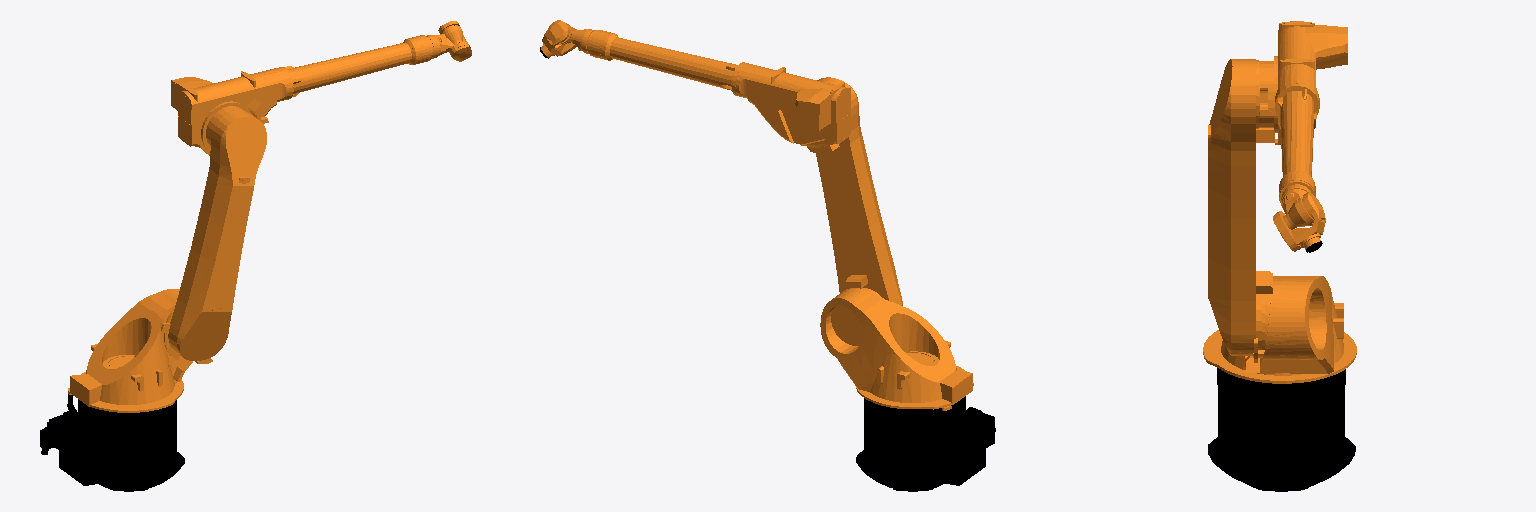
robot.urdf — kuka:
<?xml version="1.0" encoding="utf-8"?>
<robot
  name="kuka">
  <link
    name="base_link">
    <inertial>
      <origin
        xyz="0.40217 0.45379 0.76837"
        rpy="0 0 0" />
      <mass
        value="130.85" />
      <inertia
        ixx="4.8905"
        ixy="0.037499"
        ixz="-0.20711"
        iyy="6.1291"
        iyz="-0.00066682"
        izz="6.0394" />
    </inertial>
    <visual>
      <origin
        xyz="-0.5 -0.46 -0.55"
        rpy="0 0 0" />
      <geometry>
        <mesh
          filename="package://kuka/meshes/base_link.STL" />
      </geometry>
      <material
        name="">
        <color
          rgba="0 0 0 1" />
      </material>
    </visual>
    <collision>
      <origin
        xyz="-0.5 -0.46 -0.55"
        rpy="0 0 0" />
      <geometry>
        <mesh
          filename="package://kuka/meshes/base_link.STL" />
      </geometry>
    </collision>
  </link>
  <link
    name="shoulder">
    <inertial>
      <origin
        xyz="0.1341 0.0040556 0.19496"
        rpy="0 0 0" />
      <mass
        value="69.695" />
      <inertia
        ixx="2.0818"
        ixy="0.030673"
        ixz="-1.0414"
        iyy="3.7104"
        iyz="0.029859"
        izz="3.5065" />
    </inertial>
    <visual>
      <origin
        xyz="0 0 0"
        rpy="0 0 0" />
      <geometry>
        <mesh
          filename="package://kuka/meshes/shoulder.STL" />
      </geometry>
      <material
        name="">
        <color
          rgba="1 0.6 0.2 1" />
      </material>
    </visual>
    <collision>
      <origin
        xyz="0 0 0"
        rpy="0 0 0" />
      <geometry>
        <mesh
          filename="package://kuka/meshes/shoulder.STL" />
      </geometry>
    </collision>
  </link>
  <joint
    name="shoulder_joint"
    type="revolute">
    <origin
      xyz="-0.05415 -0.002 0.45303"
      rpy="0 0 0" />
    <parent
      link="base_link" />
    <child
      link="shoulder" />
    <limit 
      lower="-3.22" upper="3.22" effort="0.1" velocity="0.1"/>
    <axis
      xyz="0 0 1" />
  </joint>
  <link
    name="elbow">
    <inertial>
      <origin
        xyz="-2.6313E-05 -0.21861 0.56743"
        rpy="0 0 0" />
      <mass
        value="67.938" />
      <inertia
        ixx="11.674"
        ixy="0.00055482"
        ixz="-0.006307"
        iyy="11.834"
        iyz="0.047876"
        izz="0.59139" />
    </inertial>
    <visual>
      <origin
        xyz="0 0 0"
        rpy="0 0 0" />
      <geometry>
        <mesh
          filename="package://kuka/meshes/elbow.STL" />
      </geometry>
      <material
        name="">
        <color
          rgba="1 0.6 0.2 1" />
      </material>
    </visual>
    <collision>
      <origin
        xyz="0 0 0"
        rpy="0 0 0" />
      <geometry>
        <mesh
          filename="package://kuka/meshes/elbow.STL" />
      </geometry>
    </collision>
  </link>
  <joint
    name="elbow_joint"
    type="revolute">
    <origin
      xyz="0.35 0.025391 0.33485"
      rpy="0 0.22851 0" />
    <parent
      link="shoulder" />
    <child
      link="elbow" />
    <limit 
      lower="-0.7848" upper="2.18" effort="0.1" velocity="0.1"/>
    <axis
      xyz="0 1 0" />
  </joint>
  <link
    name="arm">
    <inertial>
      <origin
        xyz="-0.087834 0.026992 0.23654"
        rpy="0 0 0" />
      <mass
        value="50.577" />
      <inertia
        ixx="2.0496"
        ixy="0.096223"
        ixz="0.08423"
        iyy="2.232"
        iyz="0.039079"
        izz="0.61328" />
    </inertial>
    <visual>
      <origin
        xyz="0 0 0"
        rpy="0 0 0" />
      <geometry>
        <mesh
          filename="package://kuka/meshes/arm.STL" />
      </geometry>
      <material
        name="">
        <color
          rgba="1 0.6 0.2 1" />
      </material>
    </visual>
    <collision>
      <origin
        xyz="0 0 0"
        rpy="0 0 0" />
      <geometry>
        <mesh
          filename="package://kuka/meshes/arm.STL" />
      </geometry>
    </collision>
  </link>
  <joint
    name="arm_joint"
    type="revolute">
    <origin
      xyz="0 0 1.2"
      rpy="0 1.3377 0" />
    <parent
      link="elbow" />
    <child
      link="arm" />
    <limit 
      lower="-3.6624" upper="1.11616" effort="0.1" velocity="0.1"/>
    <axis
      xyz="0 1 0" />
  </joint>
  <link
    name="grip">
    <inertial>
      <origin
        xyz="0.1308 -1.3497E-05 -0.0056364"
        rpy="0 0 0" />
      <mass
        value="3.8441" />
      <inertia
        ixx="0.008836"
        ixy="2.9984E-06"
        ixz="0.002949"
        iyy="0.038511"
        iyz="2.2393E-05"
        izz="0.037838" />
    </inertial>
    <visual>
      <origin
        xyz="0 0 0"
        rpy="0 0 0" />
      <geometry>
        <mesh
          filename="package://kuka/meshes/grip.STL" />
      </geometry>
      <material
        name="">
        <color
          rgba="1 0.6 0.2 1" />
      </material>
    </visual>
    <collision>
      <origin
        xyz="0 0 0"
        rpy="0 0 0" />
      <geometry>
        <mesh
          filename="package://kuka/meshes/grip.STL" />
      </geometry>
    </collision>
  </link>
  <joint
    name="grip_joint"
    type="revolute">
    <origin
      xyz="-0.145 0.03539 1.2788"
      rpy="2.1965 -1.5708 0" />
    <parent
      link="arm" />
    <child
      link="grip" />
    <limit 
      lower="-6.104" upper="6.104" effort="0.1" velocity="0.1"/>
    <axis
      xyz="1 0 0" />
  </joint>
  <link
    name="gripper">
    <inertial>
      <origin
        xyz="0.047694 -0.0069413 4.1364E-05"
        rpy="0 0 0" />
      <mass
        value="1.7852" />
      <inertia
        ixx="0.0085501"
        ixy="0.00037793"
        ixz="-4.341E-07"
        iyy="0.006266"
        iyz="-2.6017E-06"
        izz="0.012173" />
    </inertial>
    <visual>
      <origin
        xyz="0 0 0"
        rpy="0 0 0" />
      <geometry>
        <mesh
          filename="package://kuka/meshes/gripper.STL" />
      </geometry>
      <material
        name="">
        <color
          rgba="1 0.6 0.2 1" />
      </material>
    </visual>
    <collision>
      <origin
        xyz="0 0 0"
        rpy="0 0 0" />
      <geometry>
        <mesh
          filename="package://kuka/meshes/gripper.STL" />
      </geometry>
    </collision>
  </link>
  <joint
    name="gripper_joint"
    type="revolute">
    <origin
      xyz="0.26625 0 0"
      rpy="-1.5708 0 -0.95447" />
    <parent
      link="grip" />
    <child
      link="gripper" />
    <limit 
      lower="-3.8368" upper="2.2672" effort="0.1" velocity="0.1"/>
    <axis
      xyz="0 1 0" />
  </joint>
  <link
    name="endeffector">
    <inertial>
      <origin
        xyz="0.029397 -4.4409E-16 0"
        rpy="0 0 0" />
      <mass
        value="0.045176" />
      <inertia
        ixx="2.9389E-05"
        ixy="-1.2134E-19"
        ixz="-2.5835E-20"
        iyy="1.5225E-05"
        iyz="-2.4776E-20"
        izz="1.5225E-05" />
    </inertial>
    <visual>
      <origin
        xyz="0 0 0"
        rpy="0 0 0" />
      <geometry>
        <mesh
          filename="package://kuka/meshes/endeffector.STL" />
      </geometry>
      <material
        name="">
        <color
          rgba="0 0 0 1" />
      </material>
    </visual>
    <collision>
      <origin
        xyz="0 0 0"
        rpy="0 0 0" />
      <geometry>
        <mesh
          filename="package://kuka/meshes/endeffector.STL" />
      </geometry>
    </collision>
  </link>
  <joint
    name="endeffector_joint"
    type="continuous">
    <origin
      xyz="0.1219 0 0"
      rpy="1.2409 0 0" />
    <parent
      link="gripper" />
    <child
      link="endeffector" />
    <axis
      xyz="1 0 0" />
  </joint>
</robot>

--- Facts derived from the render (not from the file) ---
Views: 3 orthographic renders of the robot side by side, from view 1: azimuth 30°, elevation 25°; view 2: azimuth 150°, elevation 25°; view 3: azimuth 270°, elevation 25°.
Model kuka with 7 links and 6 joints (5 revolute, 1 continuous), rooted at base_link, posed all joints at 0.
Links seen in each view (by area): view 1: elbow, base_link, shoulder, arm, grip; view 2: shoulder, arm, base_link, elbow, gripper, grip; view 3: elbow, base_link, shoulder, arm, grip, gripper.
Link boxes in pixels (bbox=[...]): elbow: bbox=[161, 110, 266, 360]; base_link: bbox=[40, 394, 184, 491]; shoulder: bbox=[68, 289, 212, 412]; arm: bbox=[171, 38, 420, 155]; grip: bbox=[412, 25, 462, 63]; shoulder: bbox=[820, 288, 973, 410]; arm: bbox=[600, 32, 850, 153]; base_link: bbox=[856, 396, 995, 491]; elbow: bbox=[816, 77, 902, 305]; gripper: bbox=[541, 20, 577, 57]; grip: bbox=[558, 23, 610, 58]; elbow: bbox=[1208, 59, 1274, 362]; base_link: bbox=[1208, 368, 1355, 491]; shoulder: bbox=[1203, 276, 1356, 383]; arm: bbox=[1259, 21, 1347, 190]; grip: bbox=[1279, 174, 1315, 229]; gripper: bbox=[1273, 193, 1325, 251].
Bounding box of the posed robot: 2.77 × 0.6465 × 2.24 m (x, y, z).
Meshes: 7 distinct files referenced, 7 mesh visuals loaded (7 binary STL).